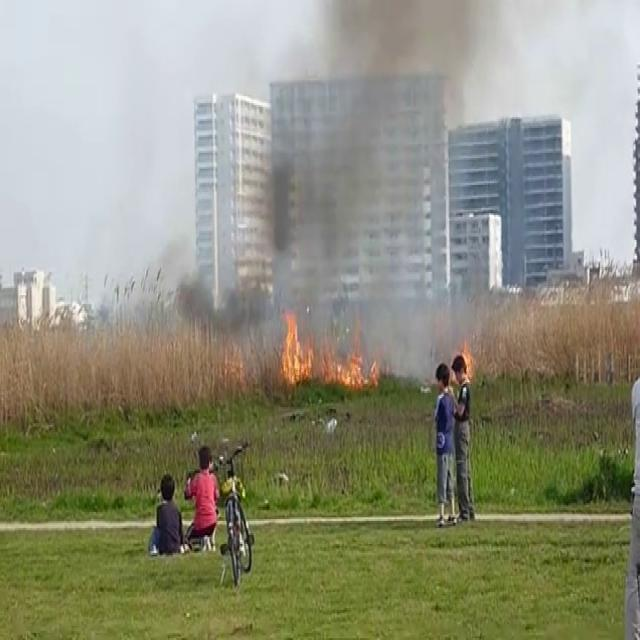Fire: (276, 298, 313, 394), (326, 319, 375, 391), (456, 338, 479, 386)
Smoke: (254, 0, 470, 373)
